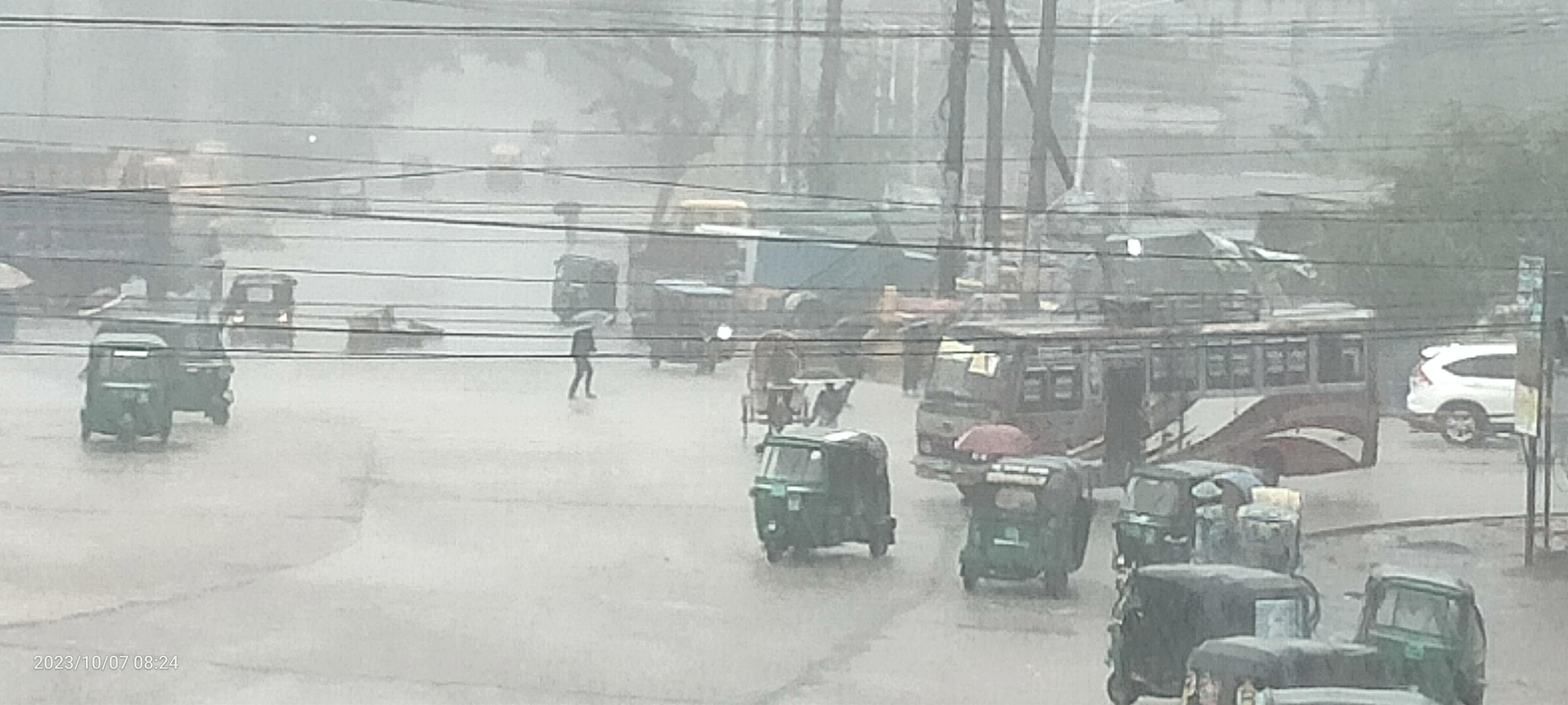Bus: (898, 280, 1421, 504)
Car: (1396, 291, 1568, 457), (728, 309, 831, 450), (635, 266, 742, 387)
Truck: (0, 143, 202, 335)
